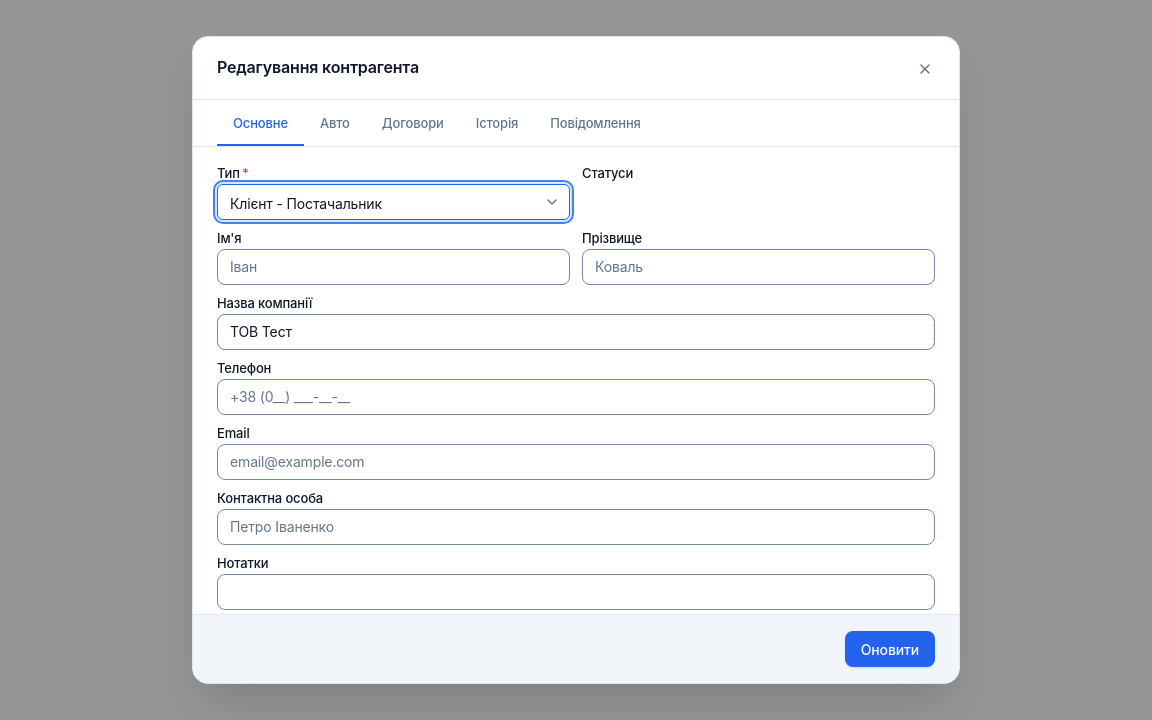
it: CounterpartyEditModal — CRUD договору (BR-CP-006) › створення: POST на /contracts контрагента; новий «Головний» знімає мітку лише зі свого виду
Click the button "Договори".
click(413, 125)  # box [366,104,460,146]
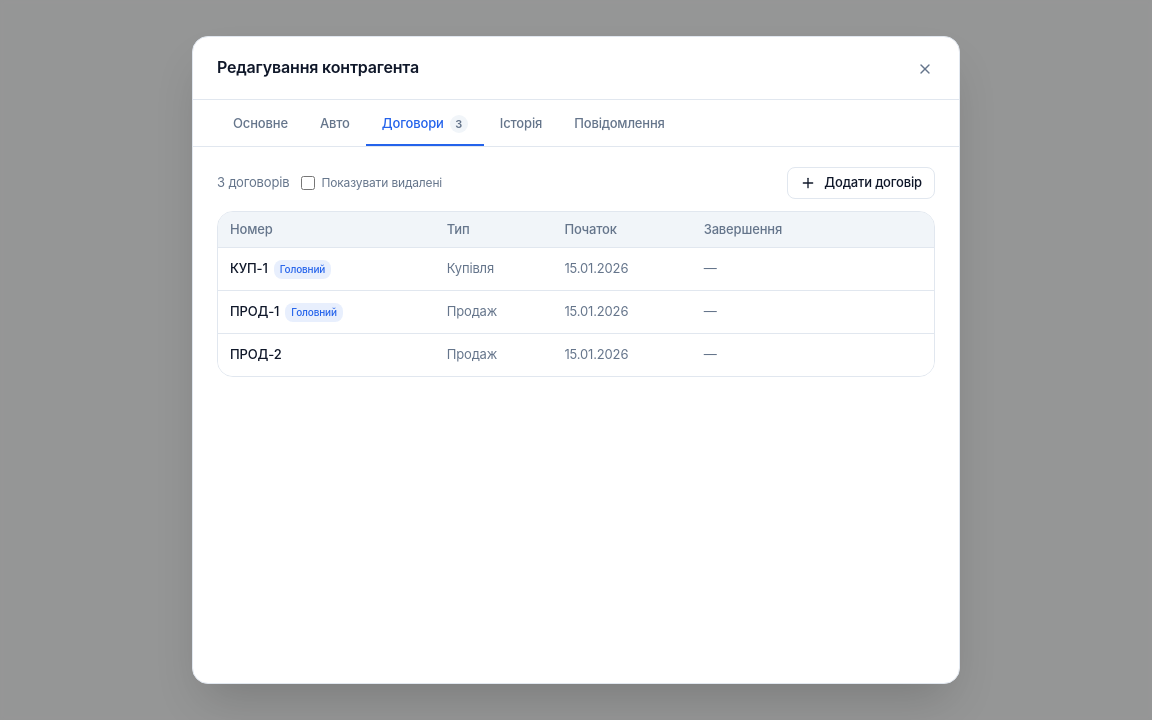
Expected: the button "Додати договір" is shown
Click the button "Додати договір".
click(861, 182)  # box [787,166,935,198]
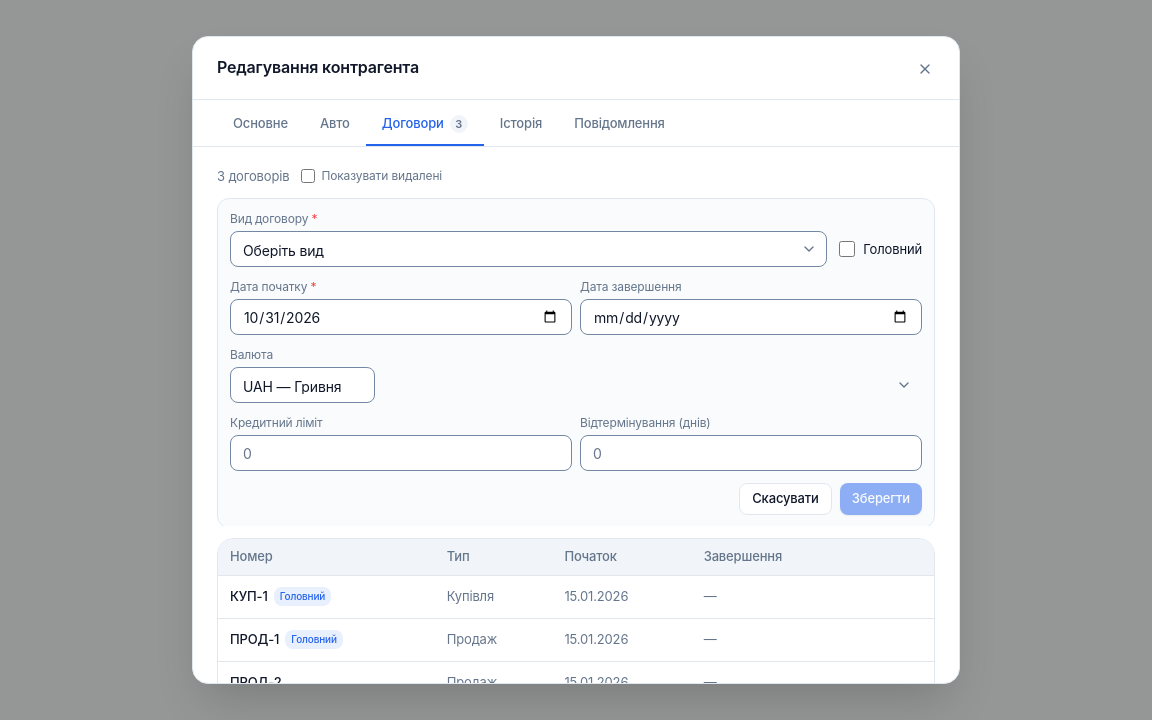
Select "Продаж" in the dropdown below "Вид договору" at [529, 249], box [230,231,827,267]
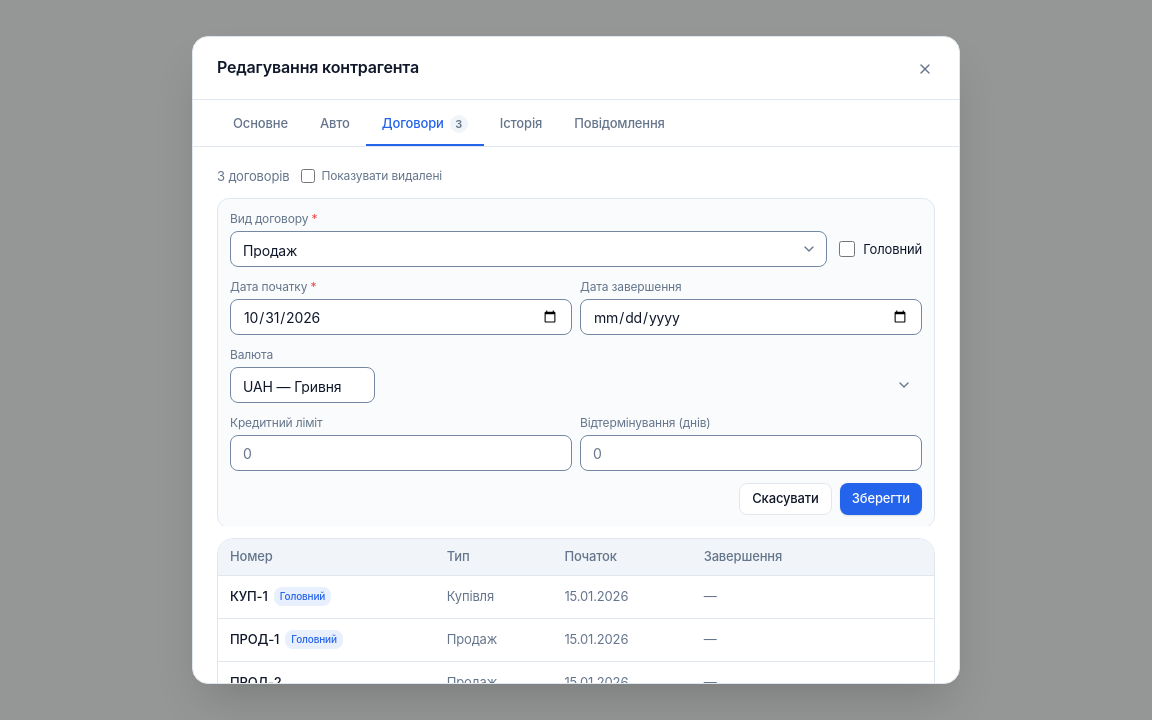
Click the checkbox labelled "Головний".
click(847, 249)  # box [839,241,855,257]
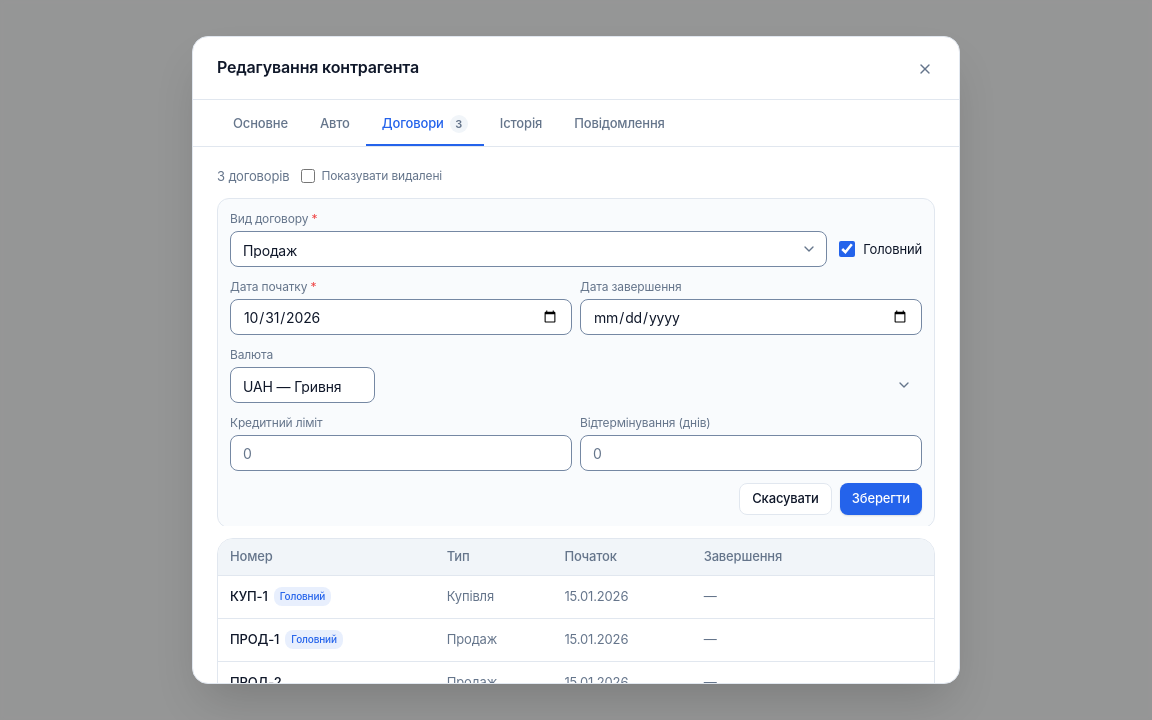
Click the button "Зберегти".
click(881, 499)  # box [840,483,922,515]
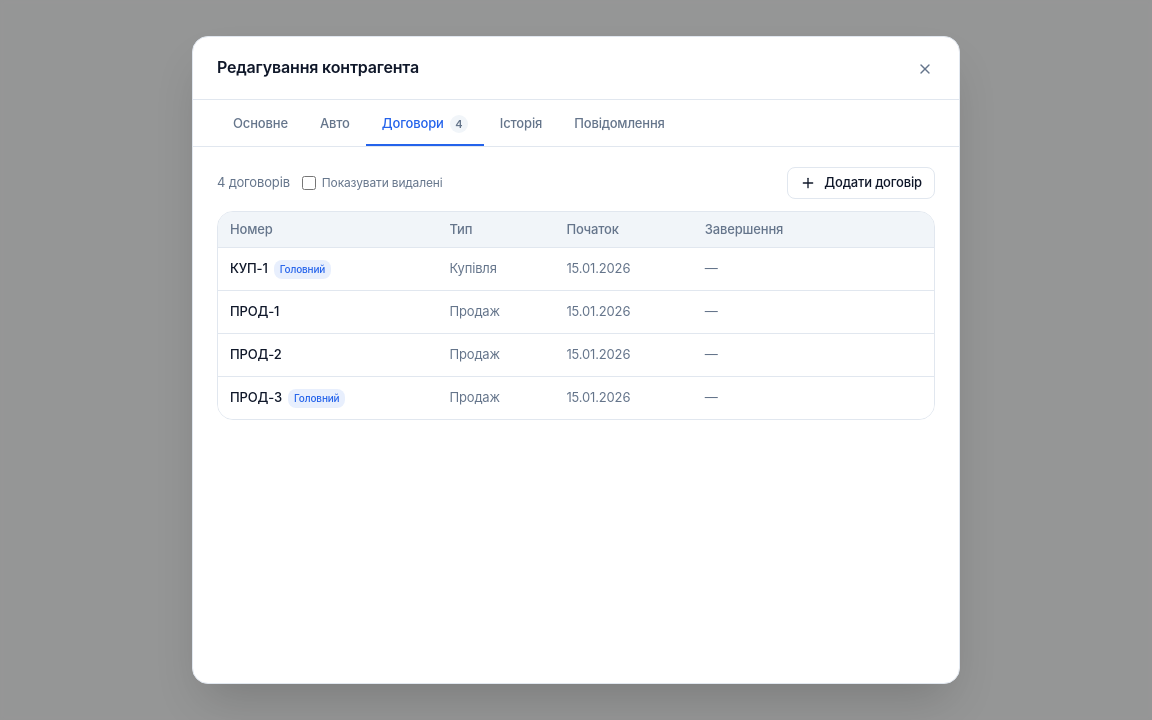
Expected: the text "ПРОД-3" is shown, [230,389,282,405]
Expected: the button "Додати договір" is shown, [787,166,935,198]
